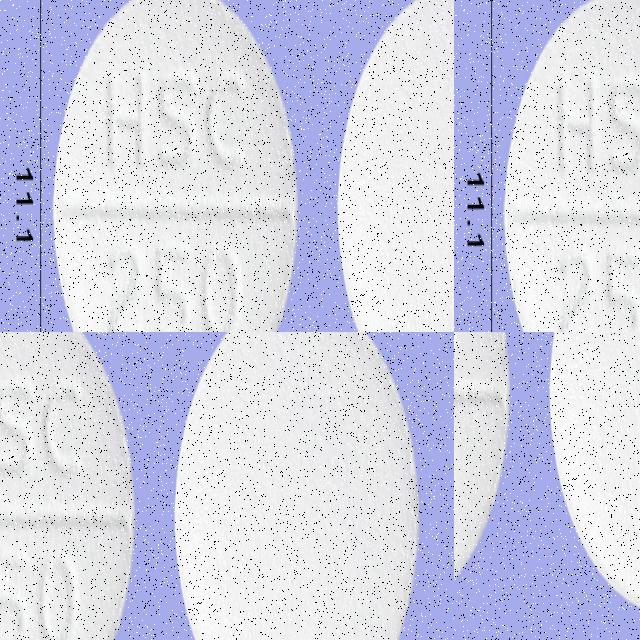Lathrocin: (52, 155, 344, 332), (323, 0, 454, 241)
Proxacinby Tab: (550, 332, 640, 619), (454, 332, 509, 619)
Wooridul Ciprofloxacin Tab: (0, 550, 282, 640), (401, 550, 454, 640)
